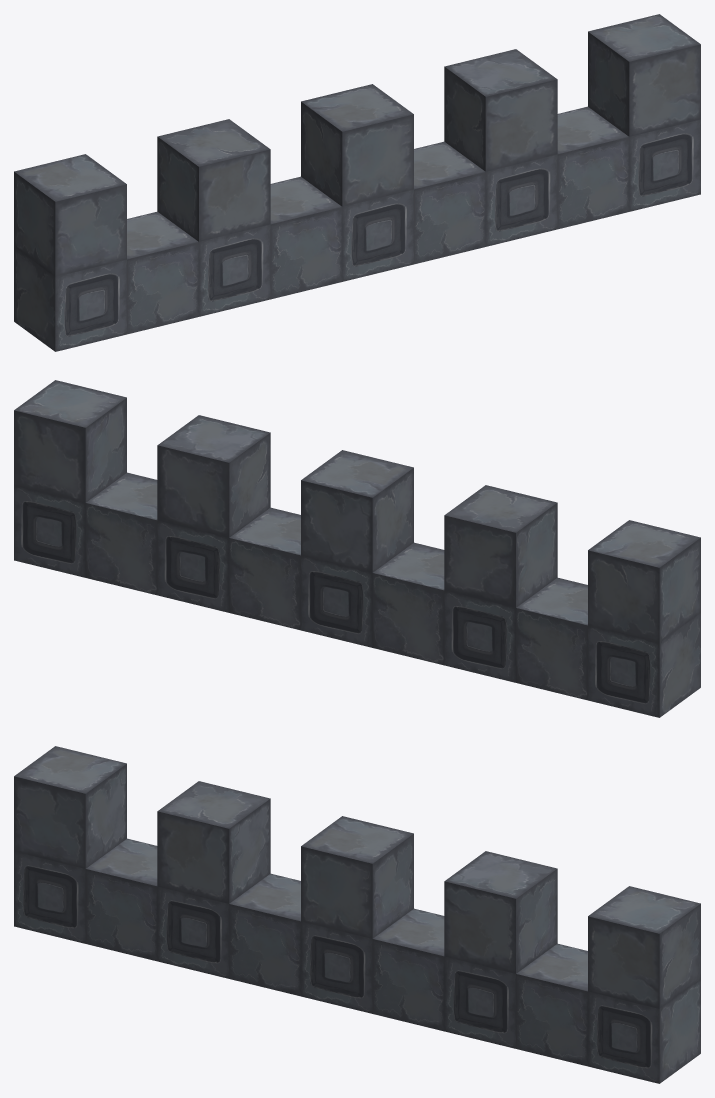
File: Castle Deco 10.fbx
3 renders of one model, top to bottom at view 1: azimuth 30°, elevation 25°; view 2: azimuth 150°, elevation 25°; view 3: azimuth 330°, elevation 25°, orthographic.
Parts seen in each view (by area): view 1: Castle Deco 10; view 2: Castle Deco 10; view 3: Castle Deco 10.
Boxes of the visible parts, x1,y1,x2,y2 form: Castle Deco 10: (14,14,700,351); Castle Deco 10: (14,380,700,717); Castle Deco 10: (14,746,700,1083).
Bounding box in the file's own units: 6.75 × 1.5 × 0.75.
